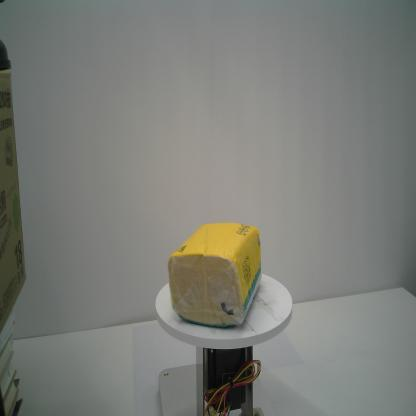Tissue: (164, 220, 264, 328)
